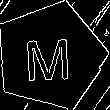M_N: (25, 29, 76, 83)
